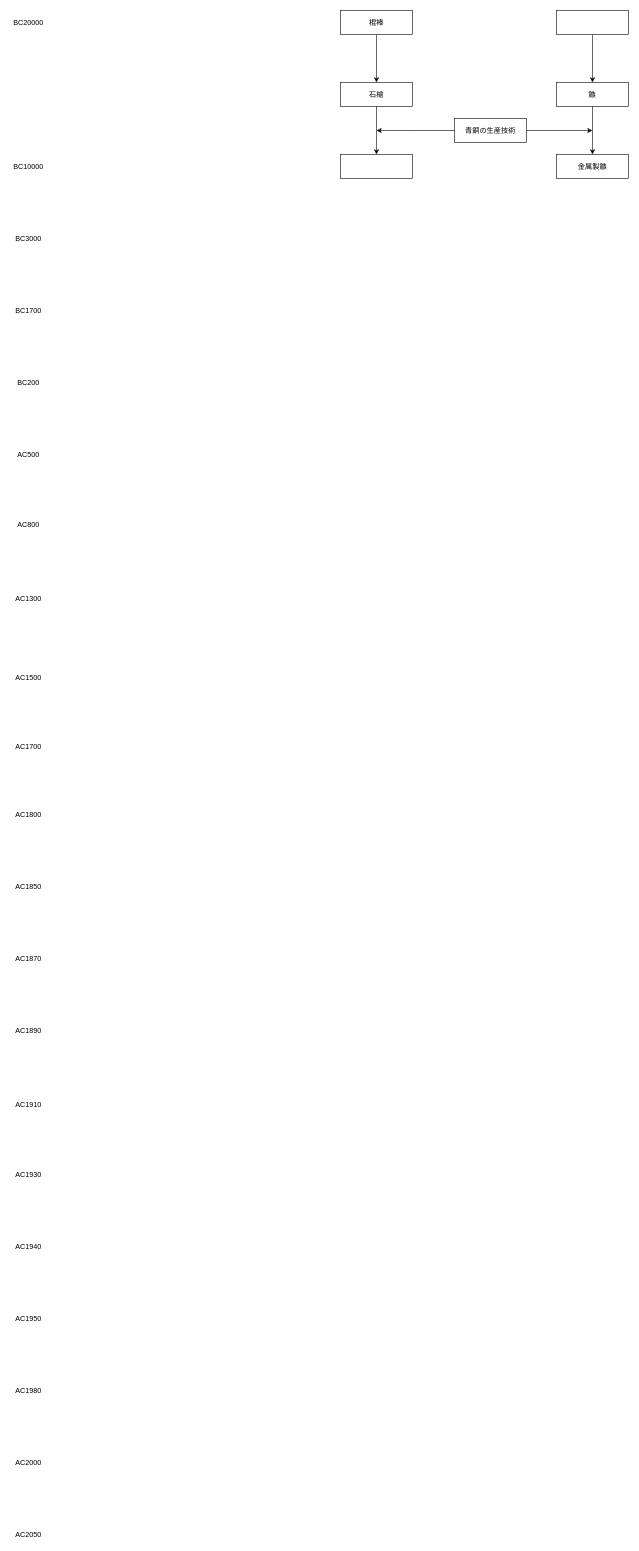
The diagram is 639 pixels wide and 1551 high, and some of its shapes have lost their labels. Here are the shapes that lost their labels. From the top down, the centre of each, then its label:
(x=592, y=22): 弓矢
(x=376, y=166): 青銅製武器
